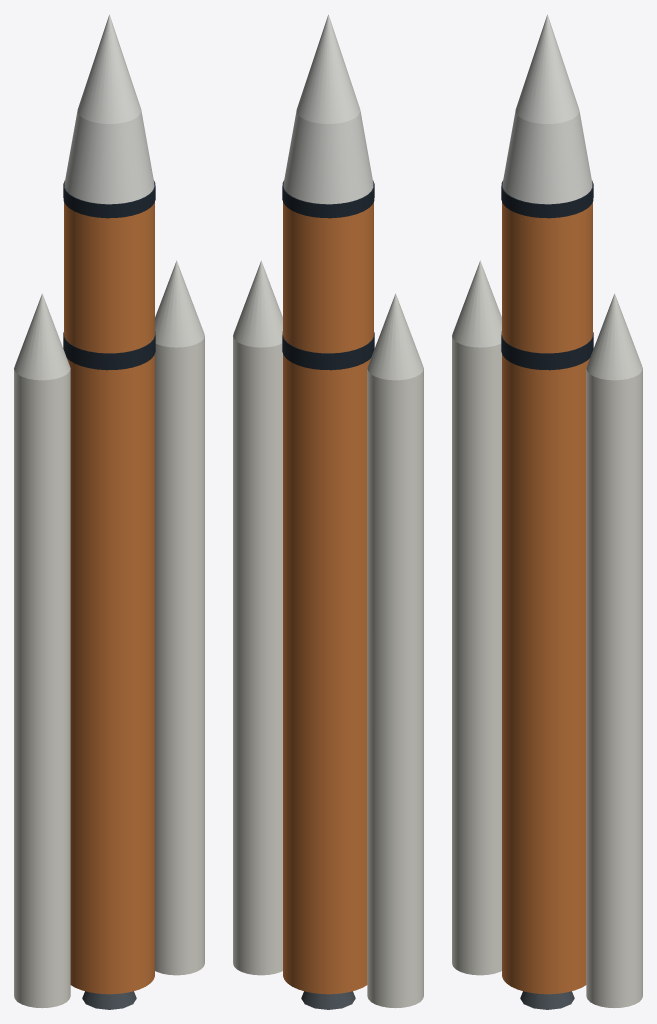
The model's file is sls.glb.
3 views of the same model, side by side, from view 1: azimuth 30°, elevation 25°; view 2: azimuth 150°, elevation 25°; view 3: azimuth 330°, elevation 25° (orthographic).
Parts seen in each view (by area): view 1: booster-body (×2), body-0, body-1, fairing, booster-nose (×2), nose, interstage-0, interstage-1, engine-0-0; view 2: booster-body (×2), body-0, body-1, fairing, booster-nose (×2), nose, interstage-0, interstage-1, engine-0-0; view 3: booster-body (×2), body-0, body-1, fairing, booster-nose (×2), nose, interstage-0, interstage-1, engine-0-0.
Part boxes in pixels (x1,y1,x2,y2): booster-body (×2): (14,336,204,1008); body-0: (67,354,154,994); body-1: (64,202,154,353); fairing: (64,111,154,204); booster-nose (×2): (14,260,204,380); nose: (77,14,141,123); interstage-0: (63,331,155,370); interstage-1: (63,180,155,218); engine-0-0: (82,991,136,1009); booster-body (×2): (233,336,423,1008); body-0: (283,354,370,994); body-1: (283,202,373,353); fairing: (283,111,373,204); booster-nose (×2): (233,260,423,380); nose: (296,14,360,123); interstage-0: (282,331,374,370); interstage-1: (282,180,374,218); engine-0-0: (301,991,355,1009); booster-body (×2): (452,336,642,1008); body-0: (502,354,589,994); body-1: (502,202,592,353); fairing: (502,111,592,204); booster-nose (×2): (452,260,642,380); nose: (515,14,579,123); interstage-0: (501,331,593,370); interstage-1: (501,180,593,218); engine-0-0: (520,991,574,1009).
Bounding box in the file's own units: 19.5 × 100 × 8.5.
